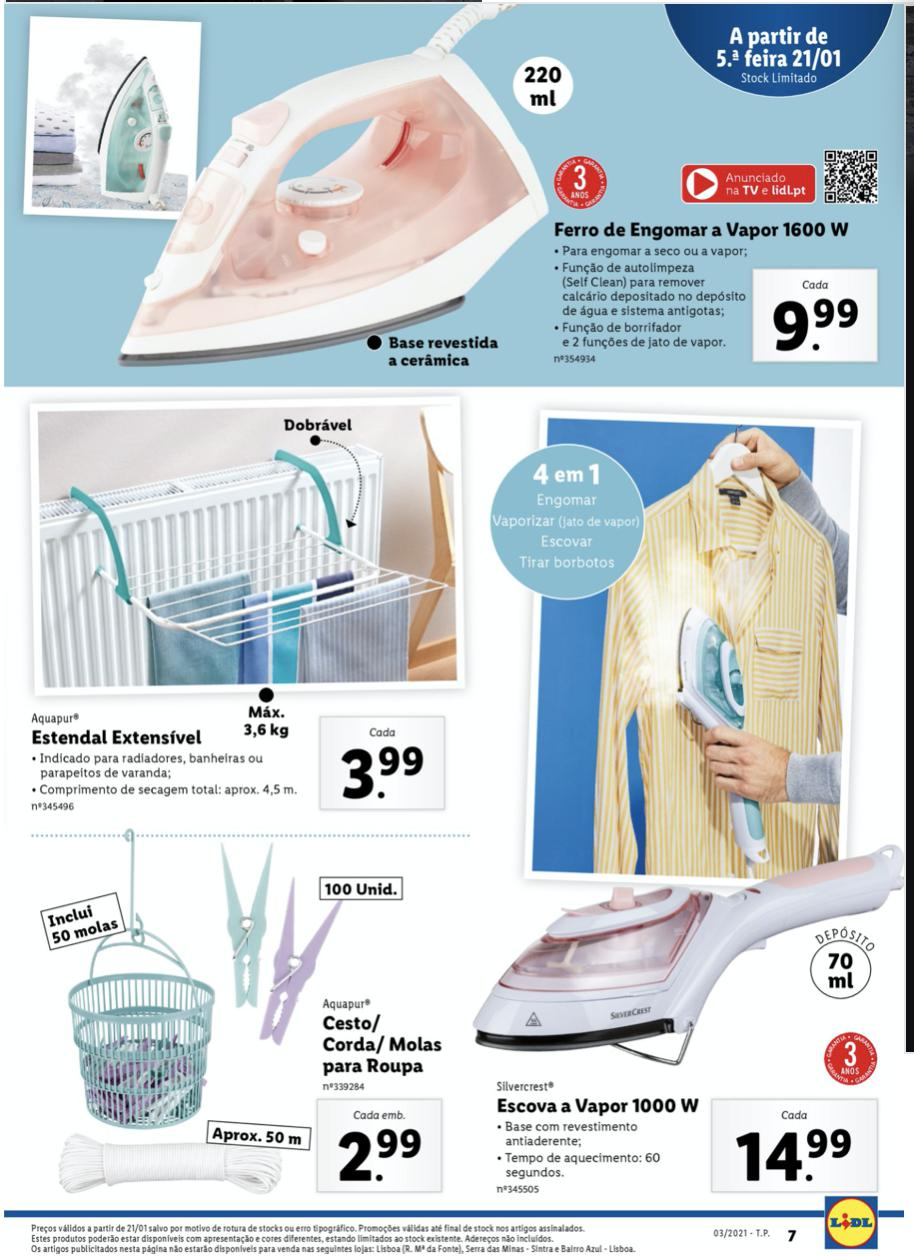name: (311, 1007, 446, 1083), (549, 213, 852, 244), (489, 1093, 713, 1119), (24, 727, 207, 752)
price: (739, 1125, 860, 1191), (763, 289, 866, 360), (338, 741, 430, 810), (330, 1122, 425, 1188)
product: (28, 14, 903, 382), (24, 400, 477, 824), (13, 852, 450, 1199), (467, 858, 886, 1196)
